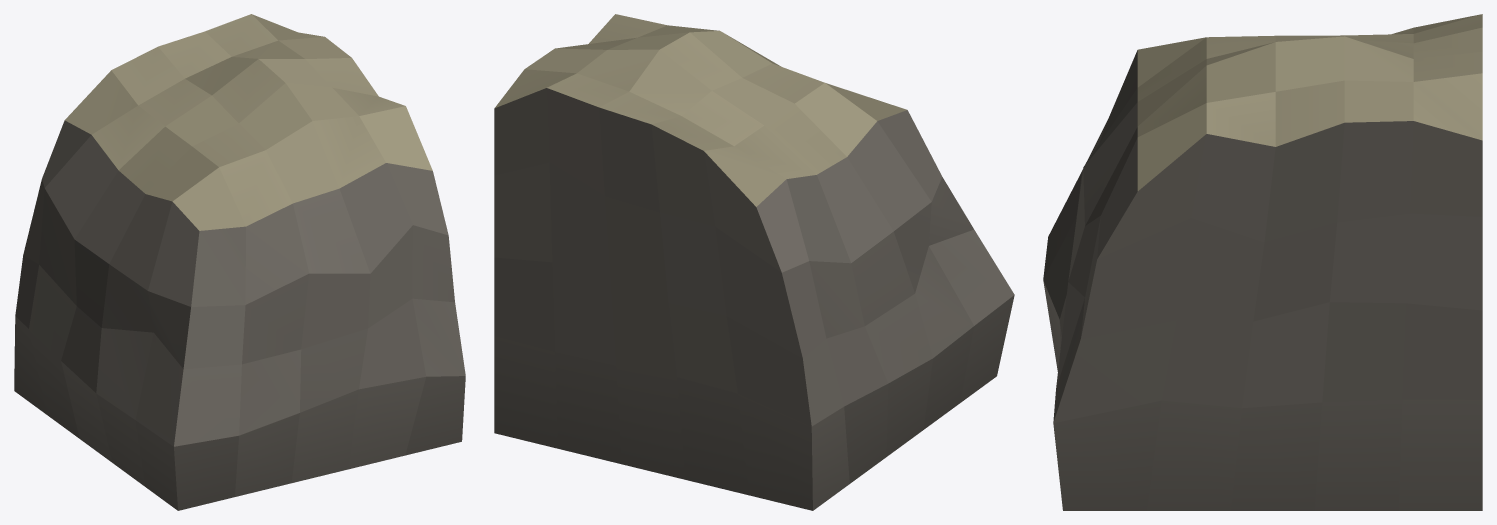
The model's file is roca_esquina_2.glb.
3 views of the same model, side by side, from view 1: azimuth 30°, elevation 25°; view 2: azimuth 150°, elevation 25°; view 3: azimuth 270°, elevation 25° (orthographic). The views are drawn at different scales.
Visible parts, largest first — view 1: propforge-cuartos-roca_esquina; view 2: propforge-cuartos-roca_esquina; view 3: propforge-cuartos-roca_esquina.
Boxes of the visible parts, left/top/right/bottom form: propforge-cuartos-roca_esquina: left=14, top=14, right=465, bottom=510; propforge-cuartos-roca_esquina: left=494, top=14, right=1014, bottom=510; propforge-cuartos-roca_esquina: left=1043, top=14, right=1482, bottom=510.
Bounding box in the file's own units: 0.9396 × 0.9845 × 0.9424.
